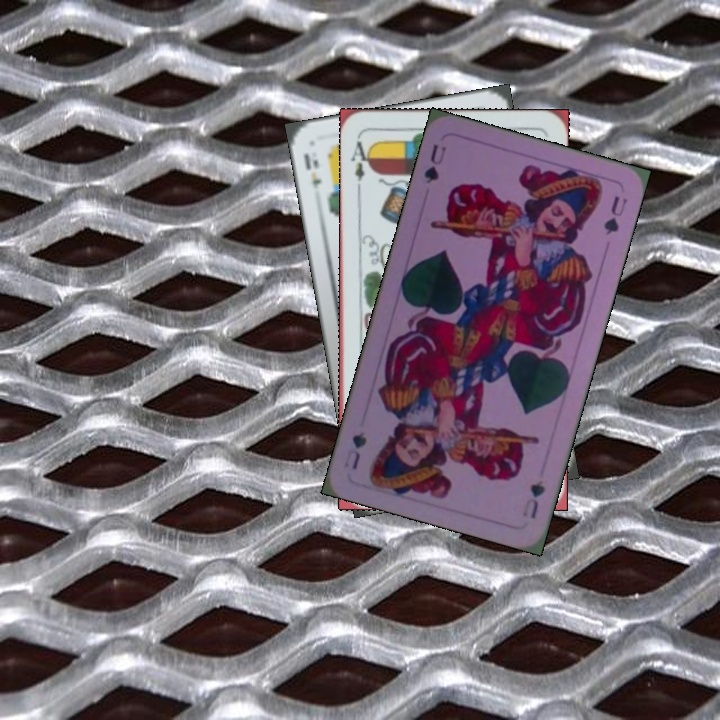EA: (347, 134, 374, 193)
EK: (299, 150, 325, 203)
GU: (419, 140, 449, 186), (518, 476, 548, 521)
